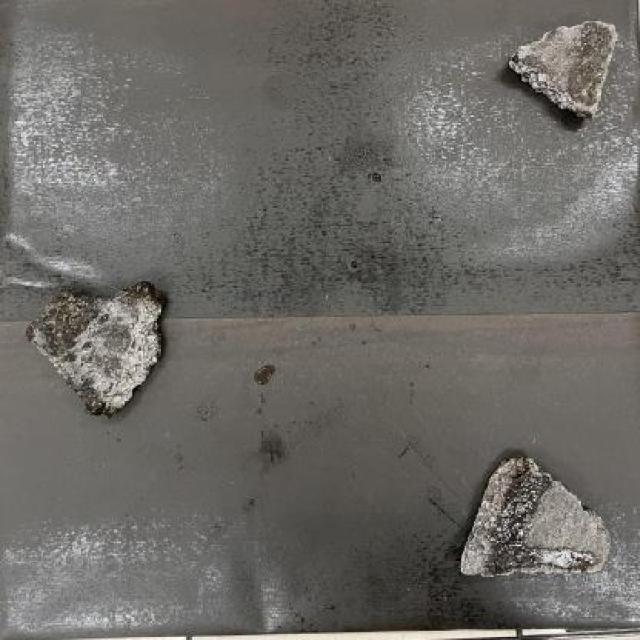Road Debris: (480, 460, 542, 574), (38, 290, 104, 372), (570, 15, 618, 111), (536, 547, 604, 576)
